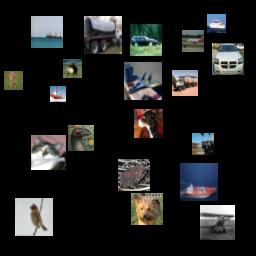airplane: (124, 62, 162, 100), (200, 205, 235, 240), (182, 30, 204, 52)
automobile: (212, 43, 244, 75), (130, 24, 162, 56)
bird: (15, 198, 53, 236), (68, 125, 94, 151)
cat: (31, 135, 66, 170)
deer: (63, 59, 82, 78), (4, 71, 23, 90)
dog: (131, 193, 163, 225), (134, 109, 163, 138)
frog: (118, 159, 150, 191)
ship: (180, 163, 218, 201), (31, 16, 63, 48), (207, 14, 226, 33), (50, 86, 66, 102)
truck: (84, 16, 122, 54), (172, 70, 198, 96), (192, 133, 214, 155)
